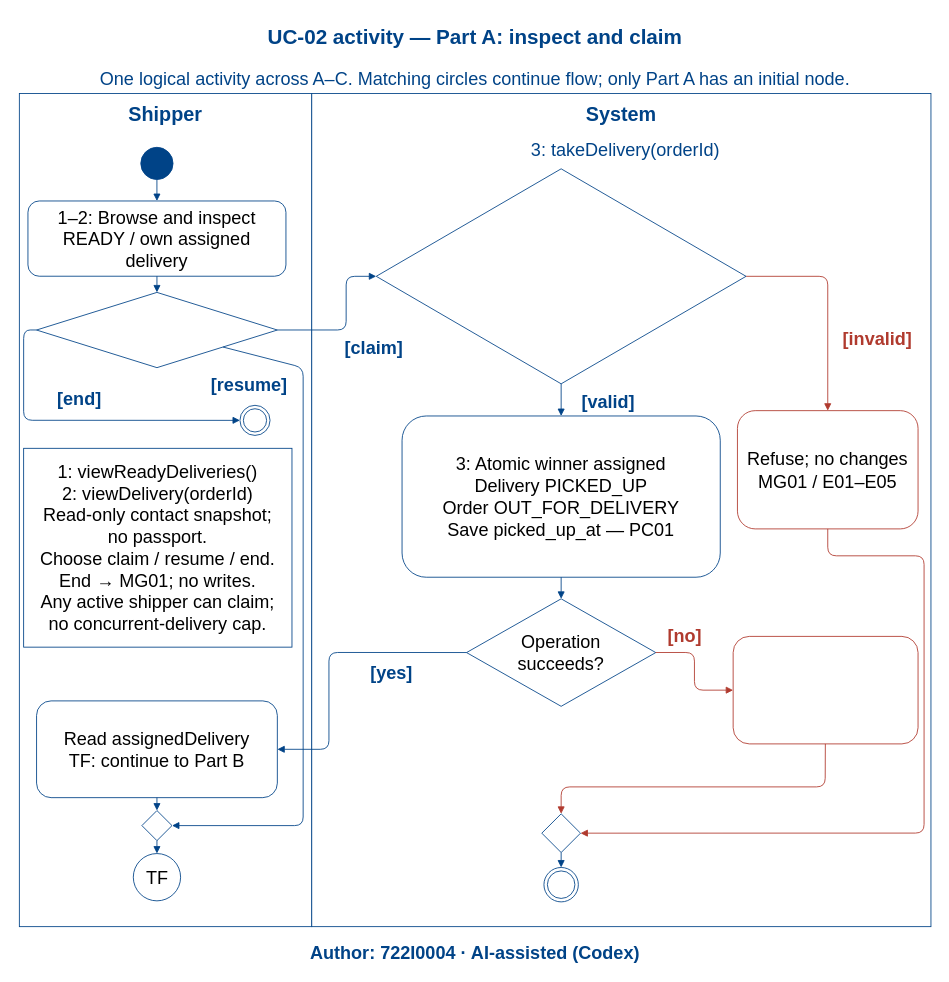
Some shapes in this 949 by 982 pixel diagram are drawn without their labels. Each missing label, with the box of its shape:
3 / A01: Next action?: (36, 292, 277, 368)
Active SHIPPER; READY + unassigned AWAITING_PICKUP?: (375, 168, 746, 384)
Rollback command No partial changes MG01 / E06: (732, 636, 918, 744)
